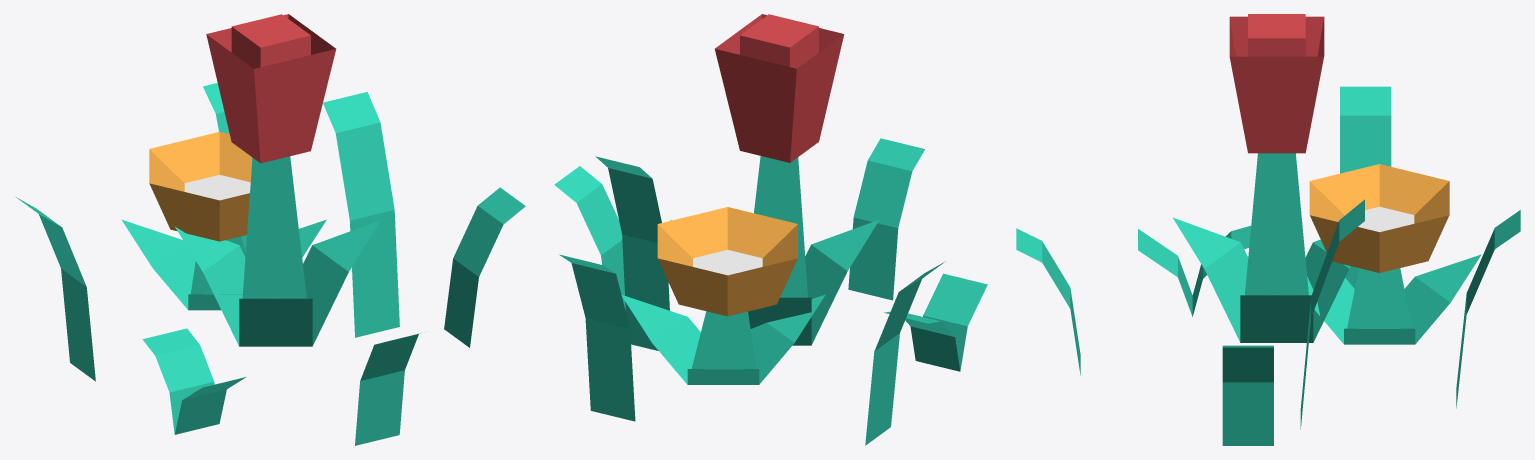
File: flowergrasshat.fbx
3 renders of one model, left to right at view 1: azimuth 30°, elevation 25°; view 2: azimuth 150°, elevation 25°; view 3: azimuth 270°, elevation 25°, orthographic.
Visible parts, largest first — view 1: flower_red, grass, flower_yellow; view 2: grass, flower_red, flower_yellow; view 3: flower_red, flower_yellow, grass.
Boxes of the visible parts, x1,y1,x2,y2 form: flower_red: (175, 14, 380, 346); grass: (16, 83, 525, 445); flower_yellow: (121, 131, 326, 310); grass: (554, 138, 987, 445); flower_red: (670, 14, 879, 345); flower_yellow: (621, 207, 825, 384); flower_red: (1173, 14, 1350, 342); flower_yellow: (1307, 164, 1481, 344); grass: (1016, 86, 1520, 445).
Size of the model in its own units: 1.51 by 1.14 by 1.55.
